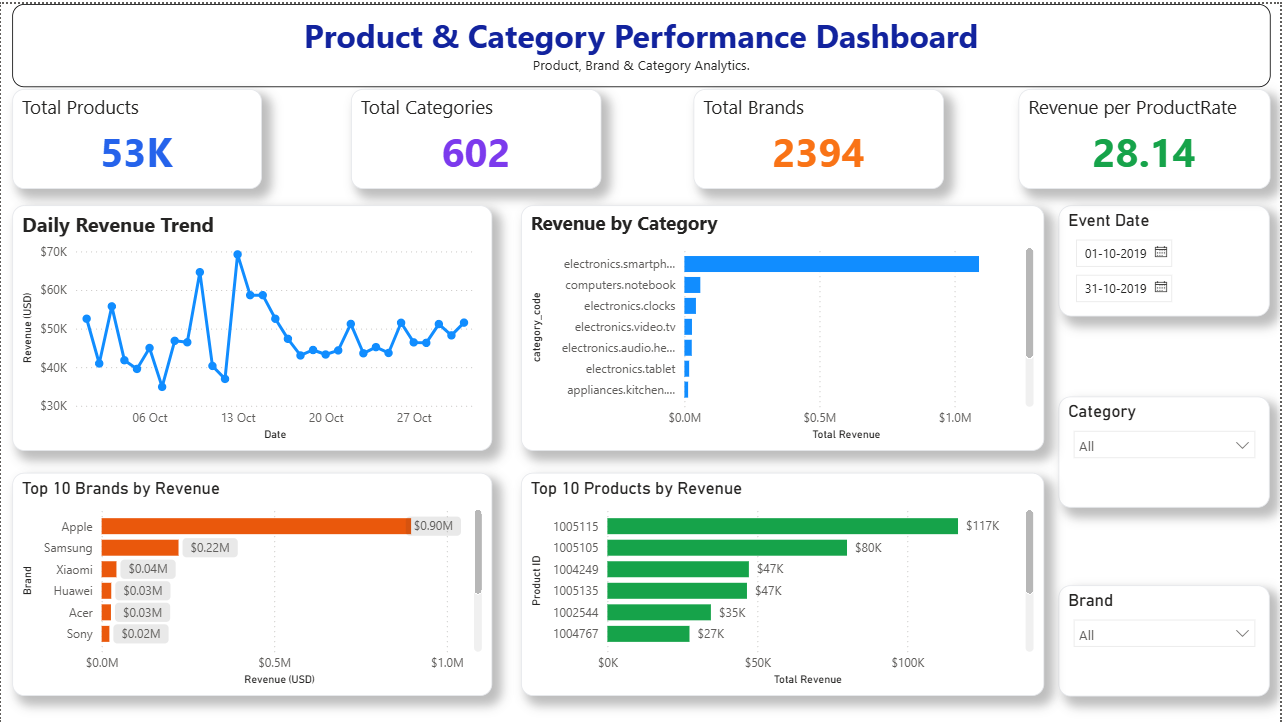

What the dashboard file says about the page in this screenshot:
{"tool":"powerbi","page":{"name":"Product & Category Performance Dashboard","canvas":[1280,720],"ordinal":2},"visuals":[{"type":"textbox","box":[11,0,1258.3,83.2],"z":0},{"type":"slicer","title":"Event Date","fields":{"Values":["events.event_date"]},"box":[1057.8,201.8,211.6,111.3],"z":1000},{"type":"slicer","title":"Category","fields":{"Values":["categories.category_code"]},"box":[1057.8,392.5,211.6,111.3],"z":2000},{"type":"slicer","title":"Brand","fields":{"Values":["products.brand"]},"box":[1057.8,580.8,211.6,111.3],"z":3000},{"type":"card","title":"Total Products","fields":{"Values":["Measures (2).Total Products"]},"box":[11,84.4,249.5,100.3],"z":4000},{"type":"card","title":"Total Categories","fields":{"Values":["Measures (2).Total Categories"]},"box":[349.7,84.4,250.7,100.3],"z":5000},{"type":"card","title":"Total Brands","fields":{"Values":["Measures (2).Total Brands"]},"box":[692.1,84.4,250.7,100.3],"z":6000},{"type":"card","title":"Revenue per ProductRate","fields":{"Values":["Measures (2).Revenue per Product"]},"box":[1017.4,84.4,251.9,100.3],"z":7000},{"type":"lineChart","title":"Daily Revenue Trend","fields":{"Y":["Measures (2).Total Revenue"],"Category":["events.event_date"]},"box":[11.3,201.8,480.2,245.7],"z":8000},{"type":"barChart","title":"Revenue by Category","fields":{"Category":["categories.category_code"],"Y":["Measures (2).Total Revenue"]},"box":[519.6,201.8,523,245.7],"z":9000},{"type":"clusteredBarChart","title":"Top 10 Brands by Revenue","fields":{"Category":["products.brand"],"Y":["Measures (2).Total Revenue"]},"box":[11.3,468.9,480.2,223.2],"z":10000},{"type":"clusteredBarChart","title":"Top 10 Products by Revenue","fields":{"Category":["events.product_id"],"Y":["Measures (2).Total Revenue"]},"box":[519.6,468.9,523,223.2],"z":11000}]}

Visuals, with their boxes in screenshot pixels (x1, y1, x2, y2), scaled from the page's 1280x720 canvas onto the 1282x722 screenshot:
textbox: select_region(11, 0, 1271, 83)
"Event Date" slicer: select_region(1059, 202, 1271, 314)
"Category" slicer: select_region(1059, 394, 1271, 505)
"Brand" slicer: select_region(1059, 582, 1271, 694)
"Total Products" card: select_region(11, 85, 261, 185)
"Total Categories" card: select_region(350, 85, 601, 185)
"Total Brands" card: select_region(693, 85, 944, 185)
"Revenue per ProductRate" card: select_region(1019, 85, 1271, 185)
"Daily Revenue Trend" lineChart: select_region(11, 202, 492, 449)
"Revenue by Category" barChart: select_region(520, 202, 1044, 449)
"Top 10 Brands by Revenue" clusteredBarChart: select_region(11, 470, 492, 694)
"Top 10 Products by Revenue" clusteredBarChart: select_region(520, 470, 1044, 694)
